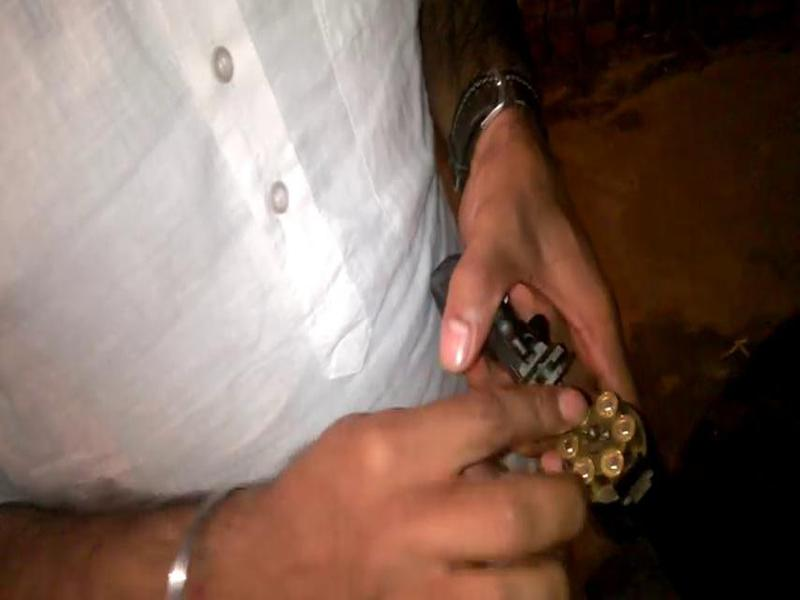Revolver: (387, 235, 728, 600)
